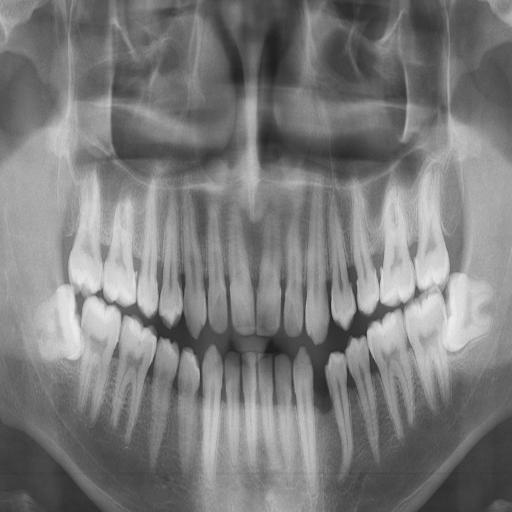Wisdom teeth: (443, 273, 493, 351), (36, 286, 83, 358)
